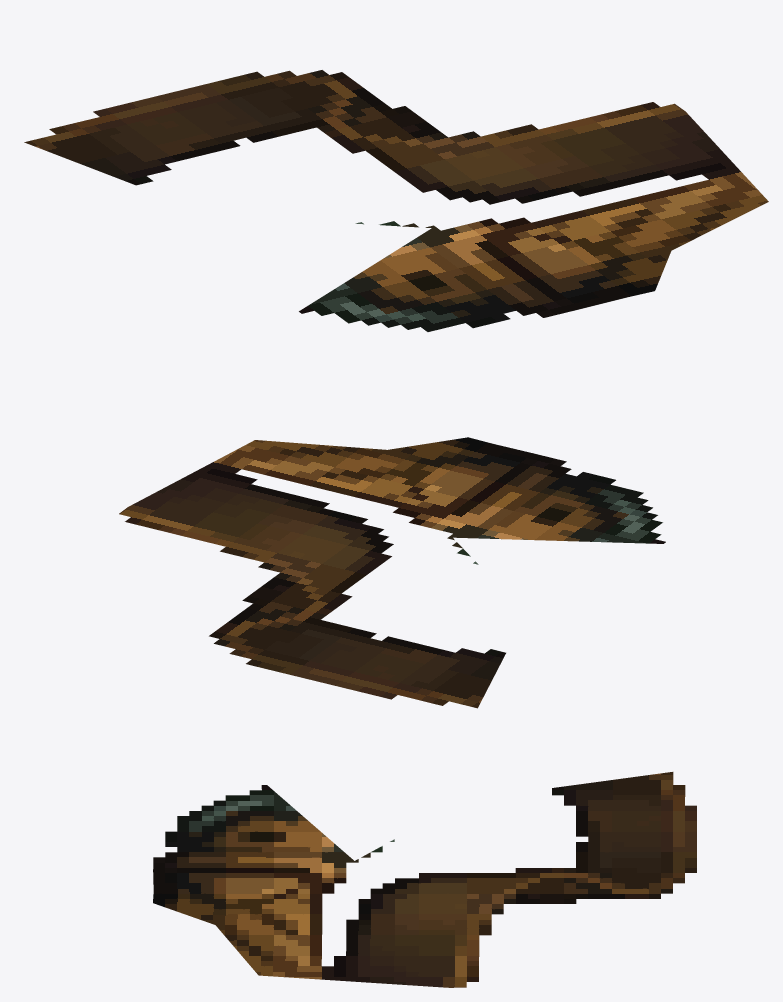
Rendered from fish.fbx.
3 views of the same model, one above another, from view 1: azimuth 30°, elevation 25°; view 2: azimuth 150°, elevation 25°; view 3: azimuth 270°, elevation 25° (orthographic). The views are drawn at different scales.
Parts seen in each view (by area): view 1: belt; view 2: belt; view 3: belt.
Boxes of the visible parts, box(x1,y1,x2,y2) form: belt: box(24, 70, 768, 331); belt: box(119, 437, 665, 708); belt: box(153, 772, 696, 987).
Size of the model in its own units: 0.6543 by 0 by 0.8673.
